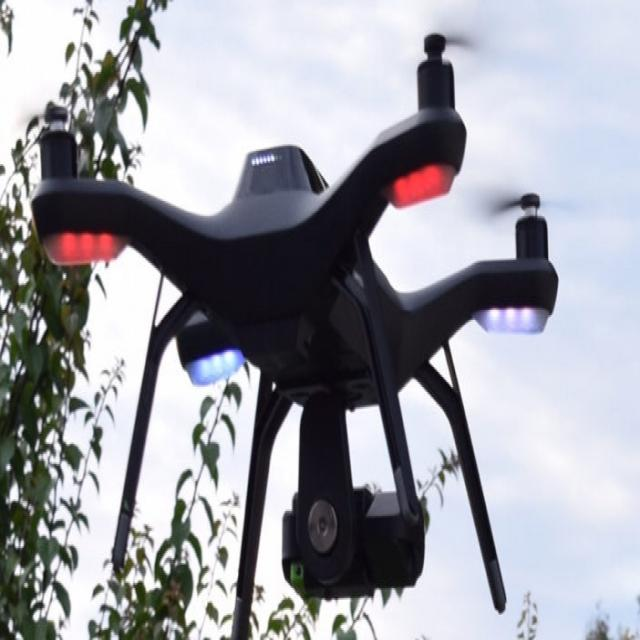drone: (22, 24, 586, 627)
